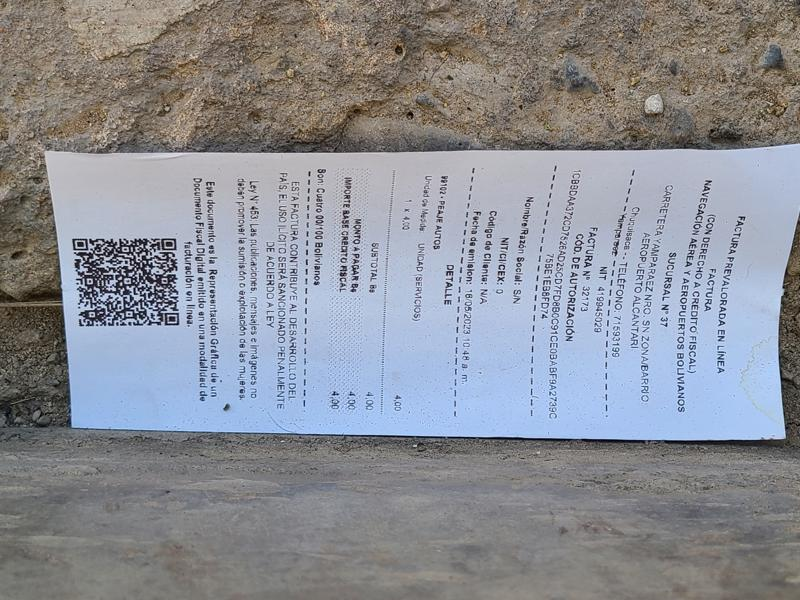papel: (43, 144, 800, 445)
